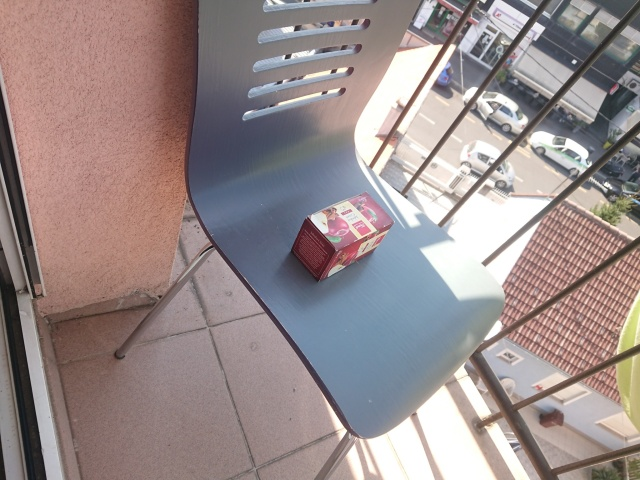Franck Apple Cinnamon Tea 60g: (288, 189, 396, 283)
